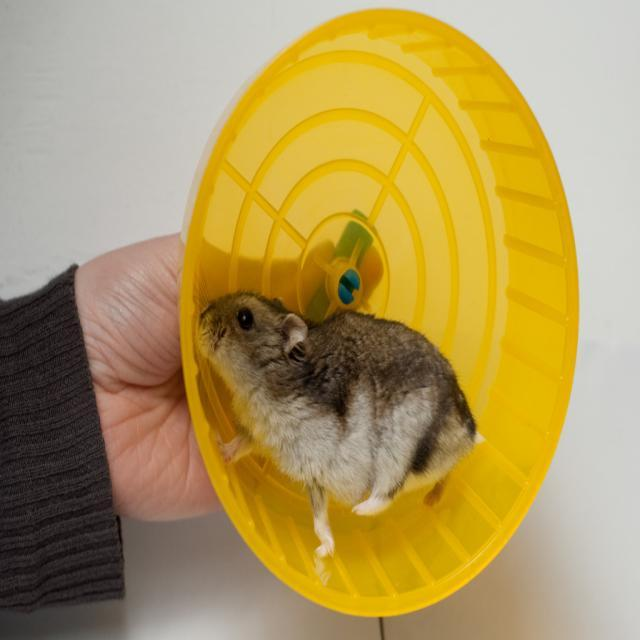rat: (193, 284, 479, 562)
